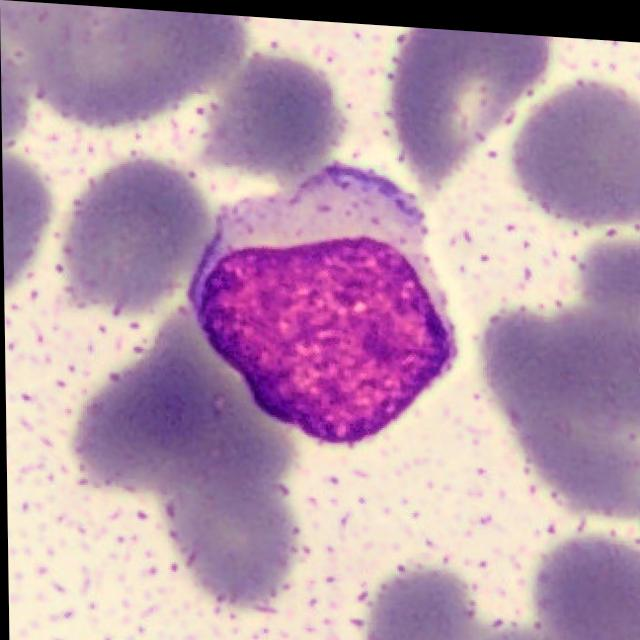Mieloblasto: (187, 160, 456, 441)
